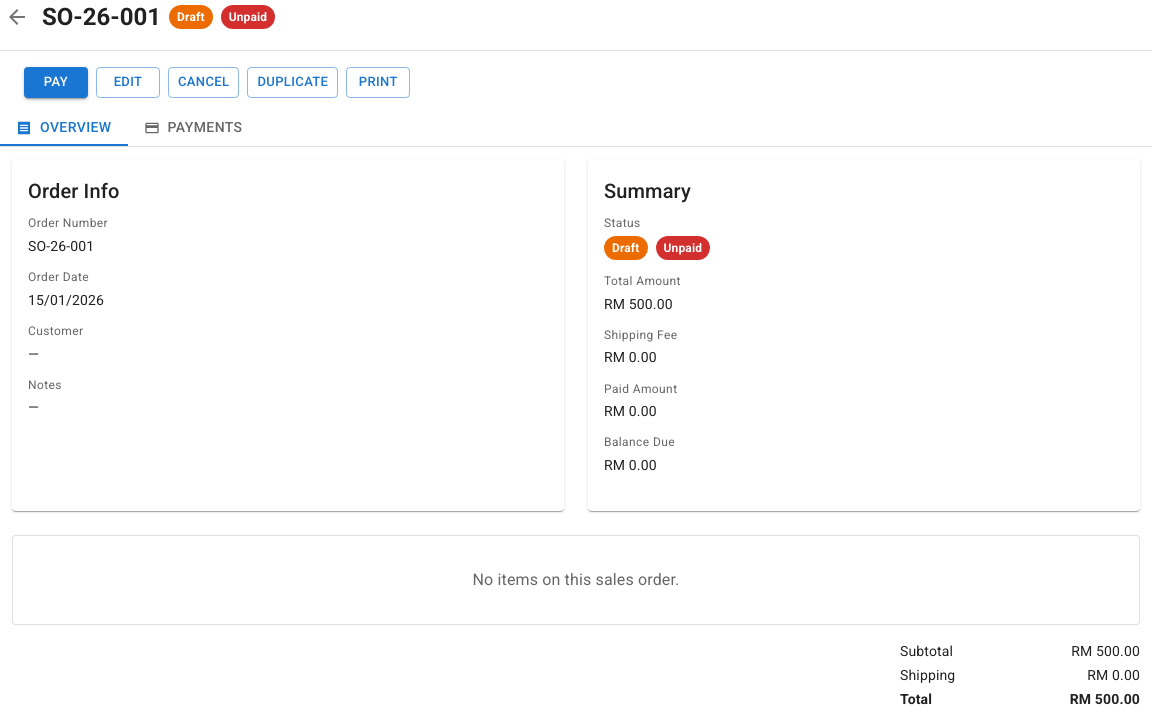
Test case: SalesOrderDetailPage › shows confirm dialog when Cancel is clicked
Click the button "Cancel".
click(204, 82)  # box [168,67,239,98]
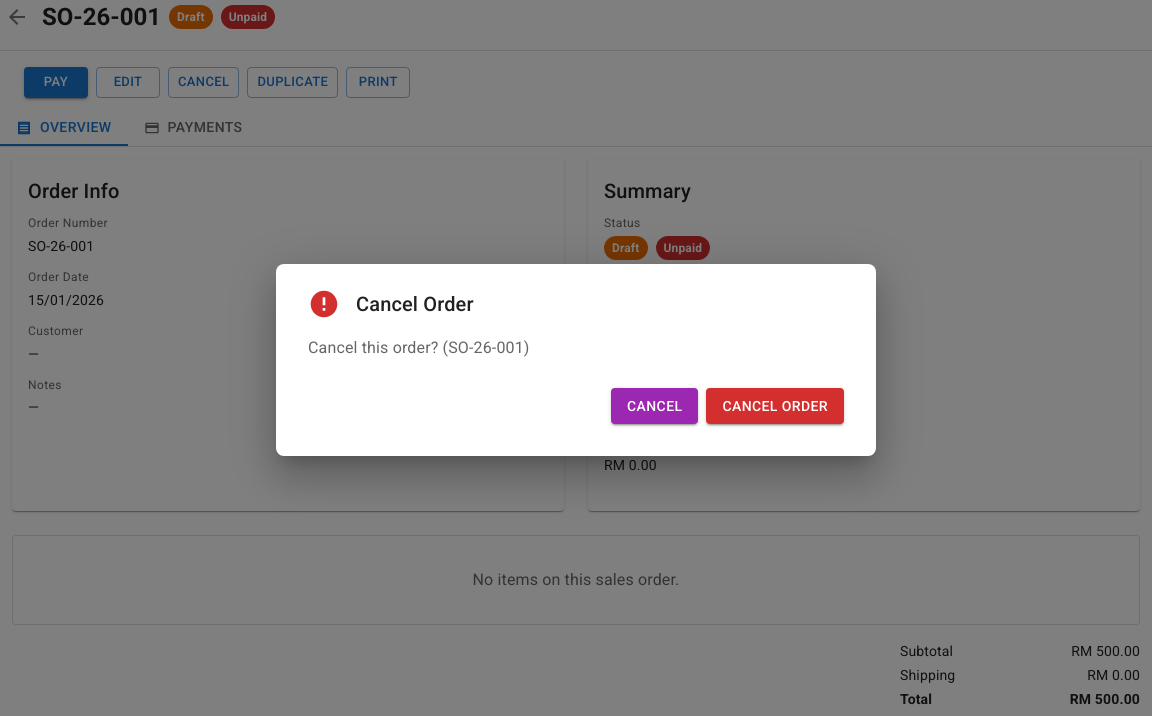
Now the text "Cancel this order? (SO-26-001)" is shown, box [308,338,530,357]
